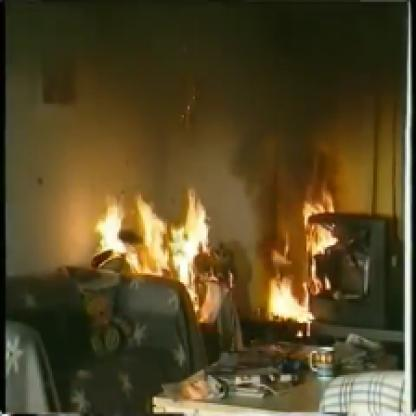fire: (87, 177, 222, 296), (254, 174, 356, 328)
